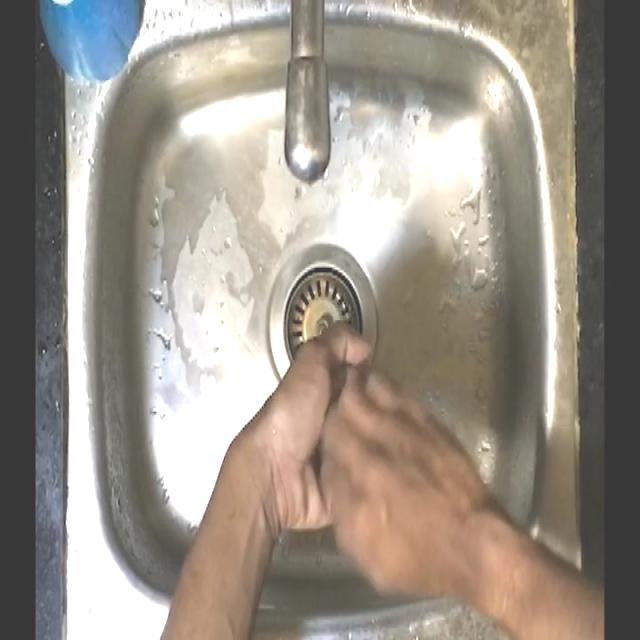step_4: (252, 318, 474, 598)
